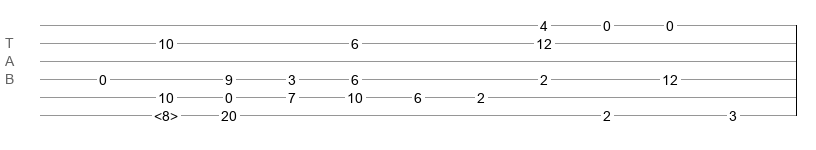0: (99, 72, 107, 82), (225, 90, 233, 100), (603, 18, 611, 28), (666, 18, 674, 28)
10: (158, 90, 174, 100), (158, 36, 174, 46), (347, 90, 363, 100)
12: (536, 36, 552, 46), (662, 72, 678, 82)
2: (477, 90, 485, 100), (540, 72, 548, 82), (603, 108, 611, 118)
20: (221, 108, 237, 118)
3: (288, 72, 296, 82), (729, 108, 737, 118)
4: (540, 18, 548, 28)
6: (351, 72, 359, 82), (351, 36, 359, 46), (414, 90, 422, 100)
7: (288, 90, 296, 100)
9: (225, 72, 233, 82)
harmonic: (154, 108, 178, 118)
